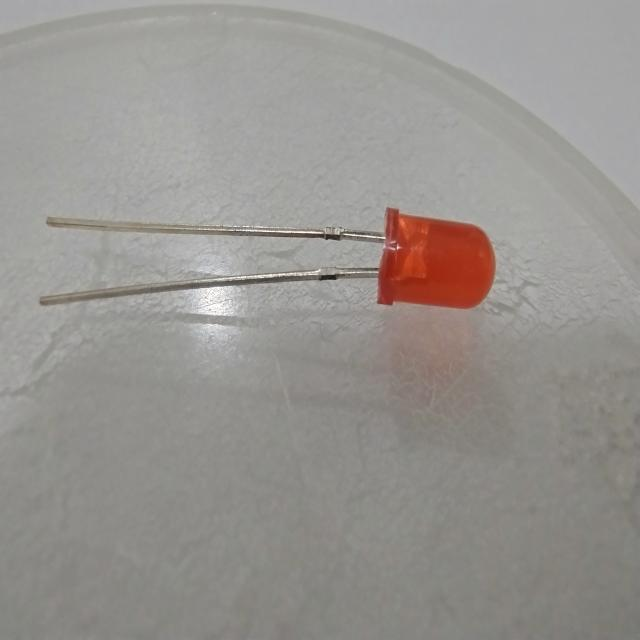red_led: (365, 193, 504, 331)
